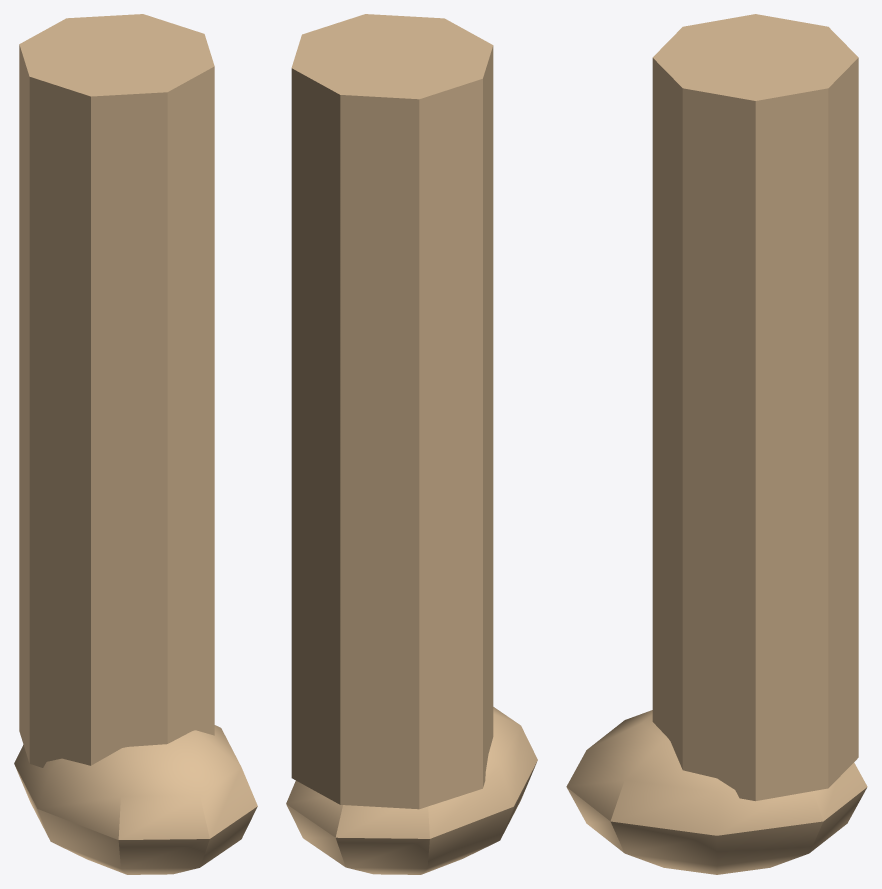
File: dog_leg.glb
The picture shows the model from 3 angles, left to right: view 1: azimuth 30°, elevation 25°; view 2: azimuth 150°, elevation 25°; view 3: azimuth 270°, elevation 25°; orthographic projection. The views are drawn at different scales.
Parts seen in each view (by area): view 1: dog_leg; view 2: dog_leg; view 3: dog_leg.
Part boxes in pixels (box(x1,y1,x2,y2)): dog_leg: box(14, 14, 257, 874); dog_leg: box(286, 14, 537, 874); dog_leg: box(566, 14, 867, 874).
Size of the model in its own units: 0.072 by 0.2752 by 0.0936.
